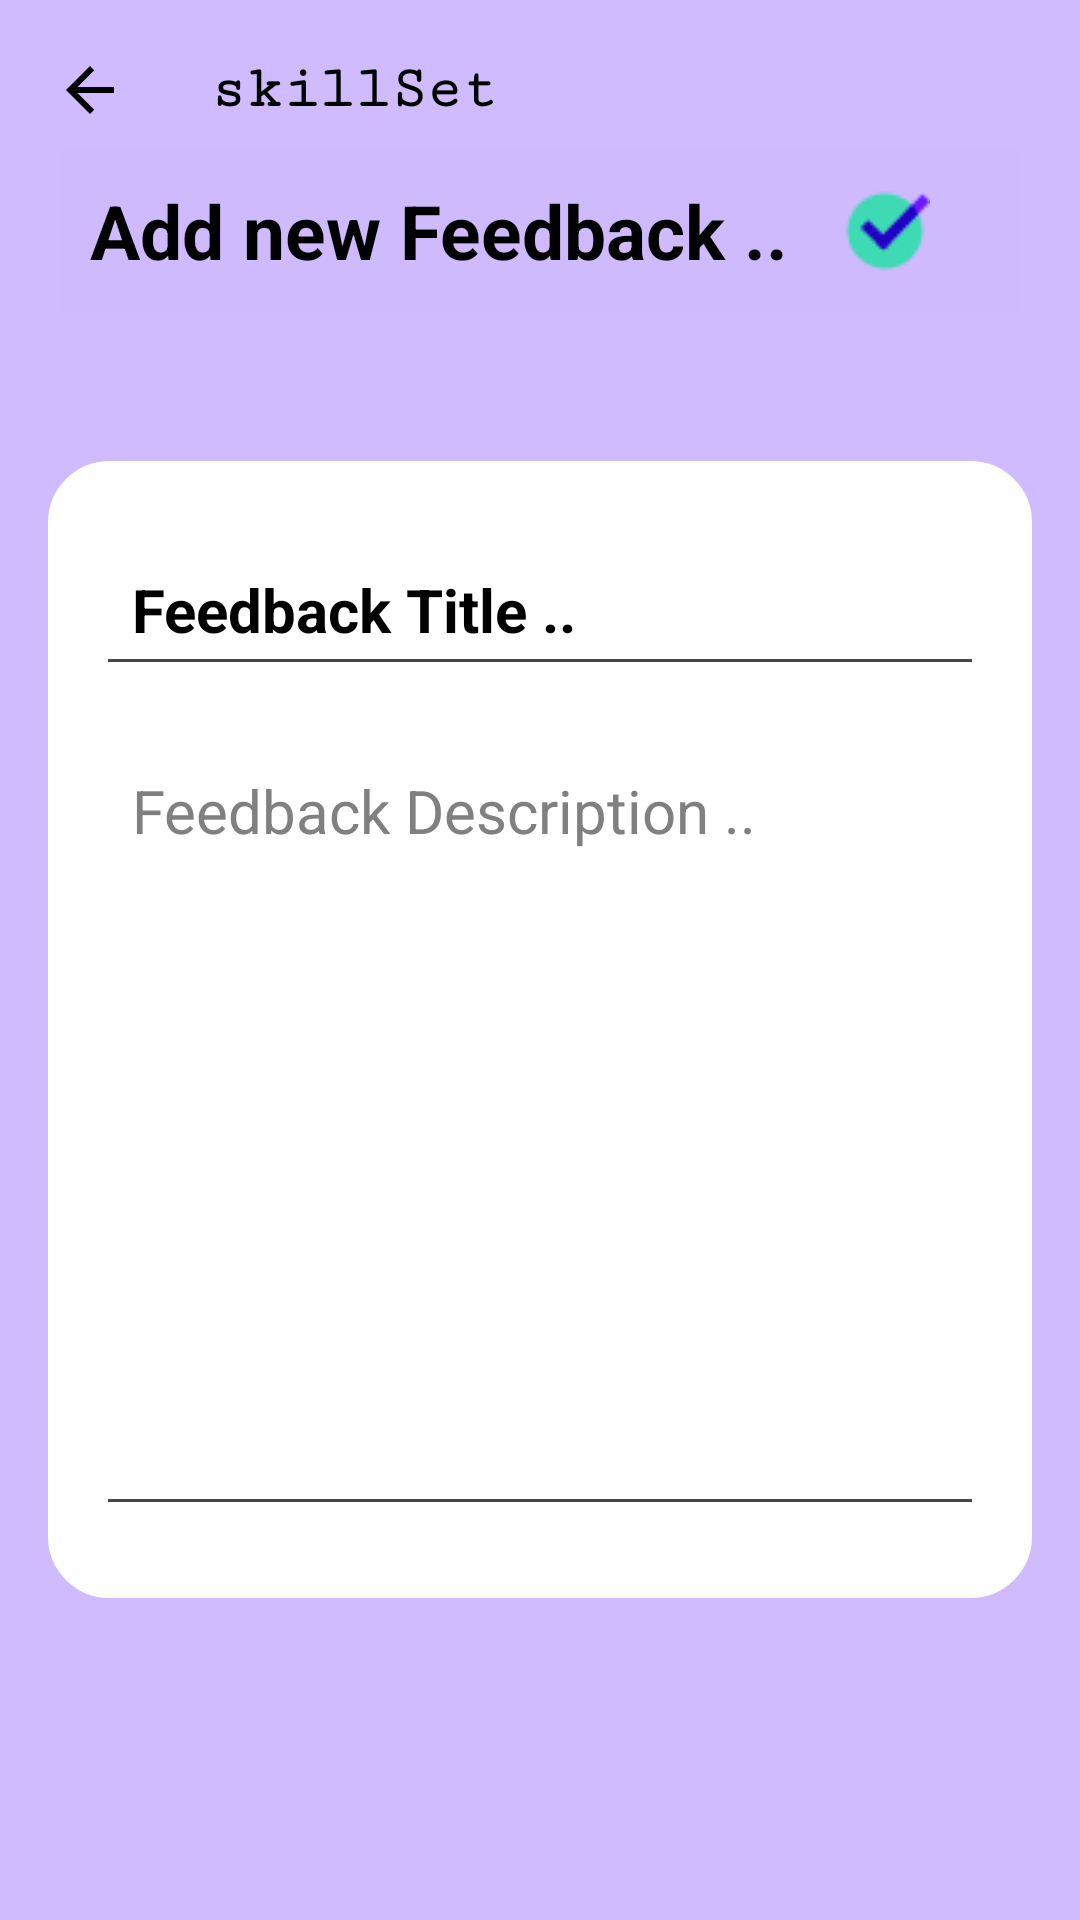

Icon bounding boxes for this 1080 × 1920 phone screenshot, format (x1, y1, x2, y2):
file back: (66, 66, 114, 114)
